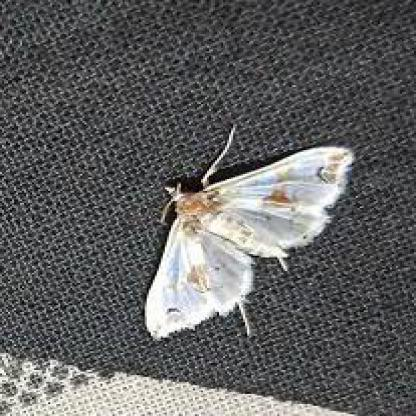leucinodes: (143, 148, 352, 342)
